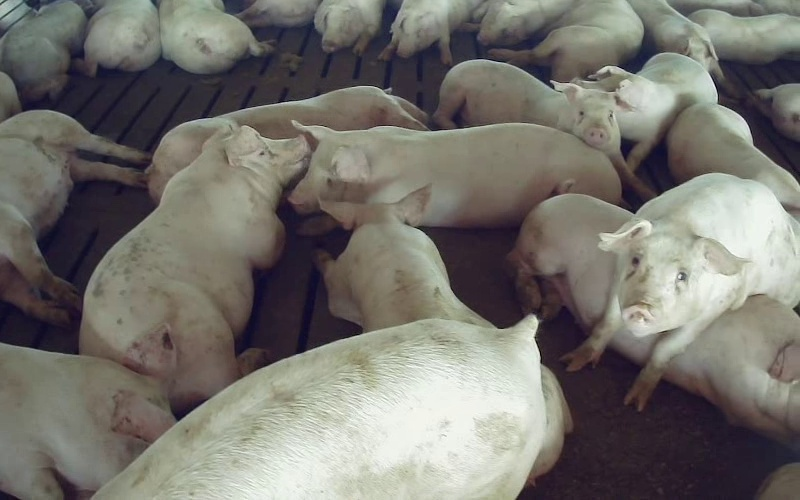pig: (95, 316, 544, 499), (81, 126, 309, 408), (564, 174, 799, 409), (289, 123, 620, 226), (146, 86, 428, 202), (0, 326, 175, 499), (433, 60, 651, 198), (316, 185, 493, 331), (575, 53, 717, 170), (666, 104, 799, 220), (489, 0, 643, 81), (159, 0, 274, 73), (628, 0, 723, 81), (378, 0, 481, 65), (79, 0, 160, 76), (688, 9, 799, 63), (460, 0, 572, 45), (314, 0, 385, 55), (236, 0, 320, 27)
